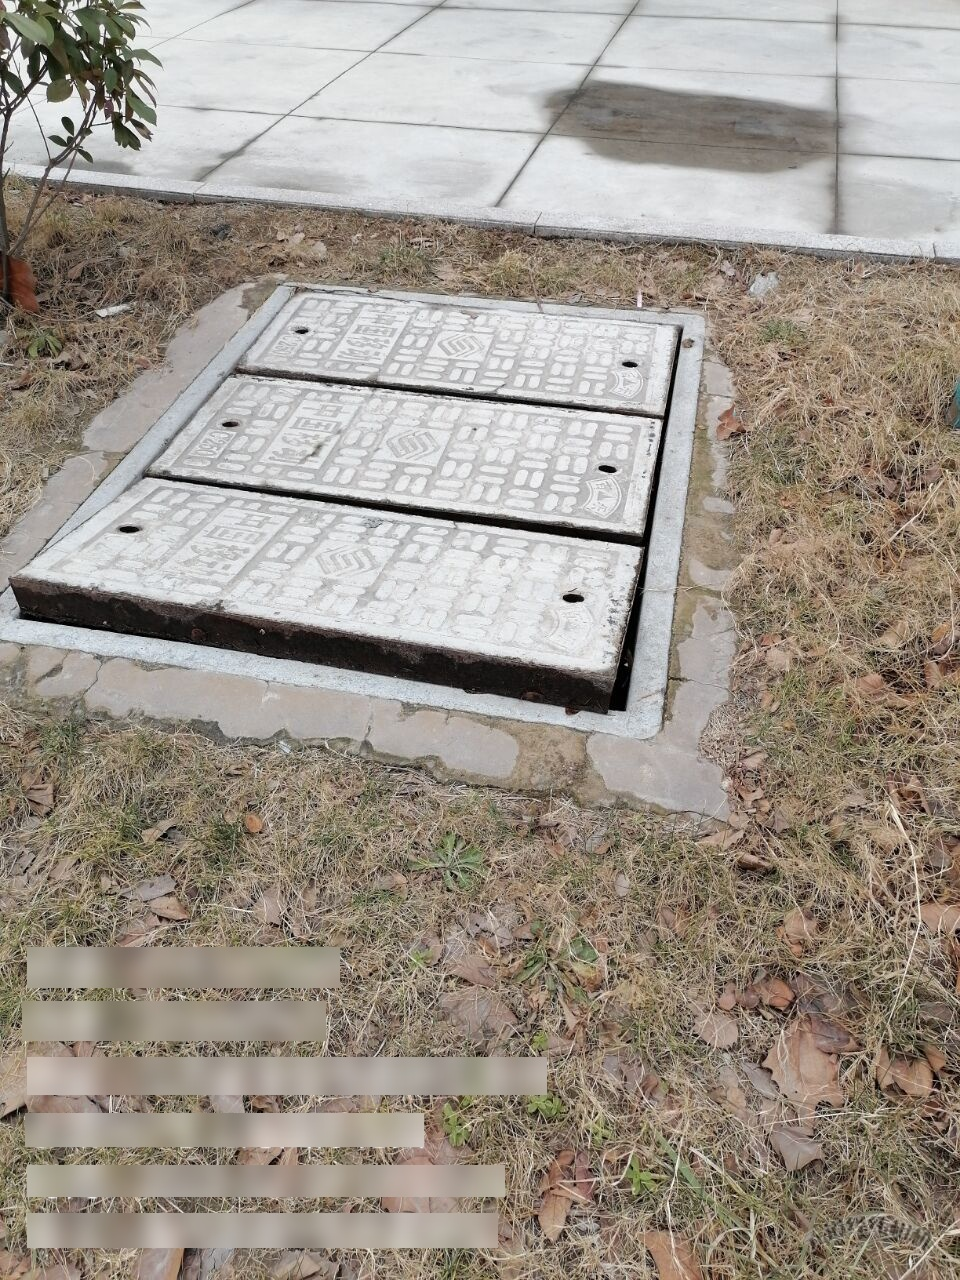uncovered: (3, 282, 704, 739)
